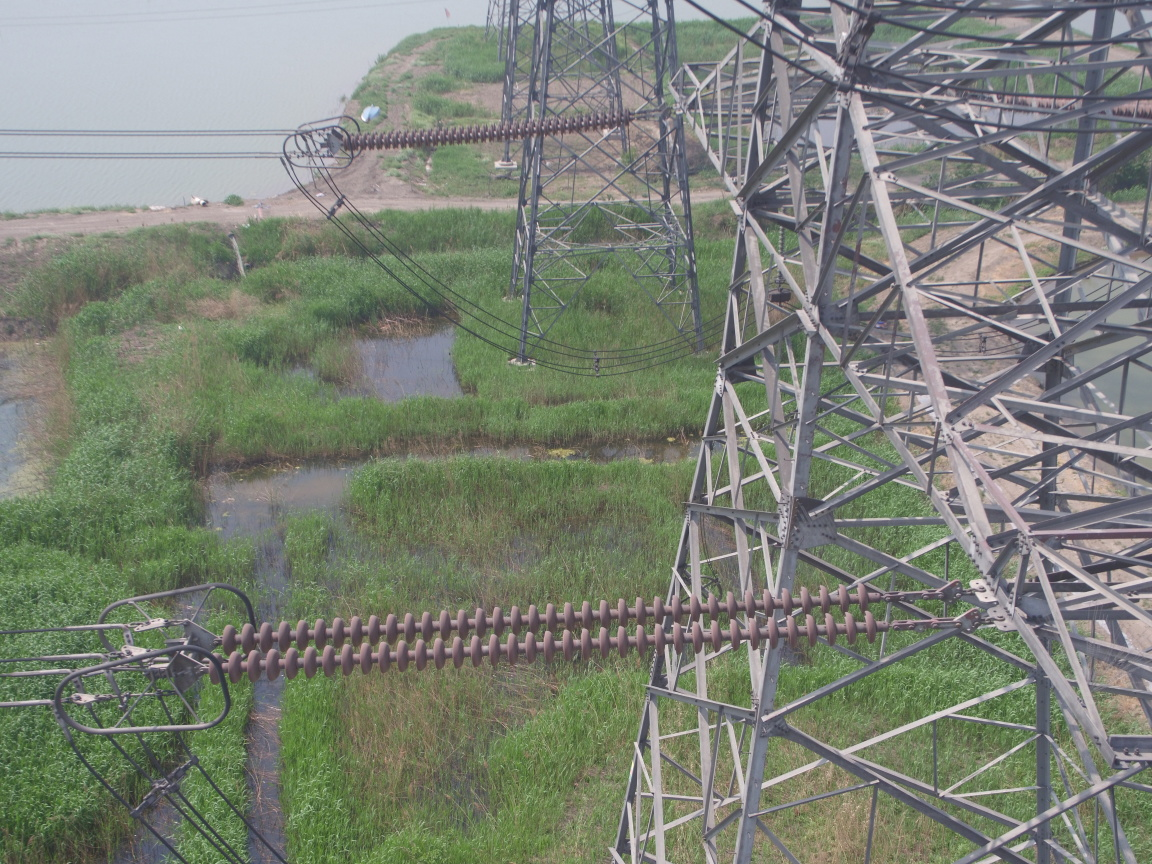insulator: (188, 578, 908, 688), (336, 107, 648, 151)
